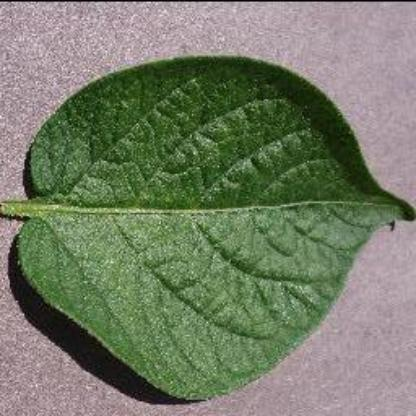Healthy-plant: (20, 41, 392, 400)
